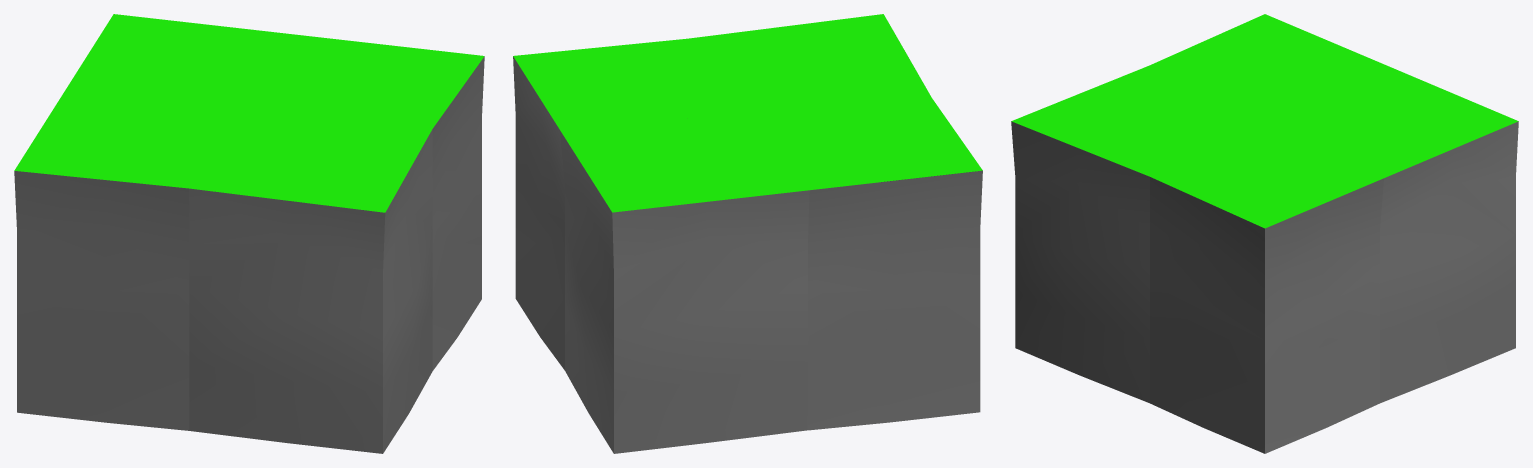
The model's file is Earth_romb.fbx.
3 views of the same model, side by side, from view 1: azimuth 30°, elevation 25°; view 2: azimuth 150°, elevation 25°; view 3: azimuth 270°, elevation 25° (orthographic). The views are drawn at different scales.
Parts seen in each view (by area): view 1: Land_Diogonal_03, Object060, Object057, Land_Diogonal_04, Object052, Object049, Object048, Object059; view 2: Object052, Object059, Object049, Object048, Land_Diogonal_03, Object057, Object060, Land_Diogonal_04; view 3: Object049, Object057, Object048, Land_Diogonal_04, Object052, Land_Diogonal_03, Object059, Object060.
Boxes of the visible parts, x1,y1,x2,y2 form: Land_Diogonal_03: (189, 113, 385, 453); Object060: (14, 113, 248, 430); Object057: (250, 113, 432, 453); Land_Diogonal_04: (250, 56, 484, 370); Object052: (61, 14, 248, 113); Object049: (114, 14, 309, 113); Object048: (250, 36, 483, 113); Object059: (14, 97, 248, 170); Object052: (612, 113, 809, 453); Object059: (748, 113, 982, 430); Object049: (559, 113, 747, 453); Object048: (513, 56, 746, 370); Land_Diogonal_03: (748, 14, 931, 182); Object057: (688, 14, 882, 190); Object060: (749, 98, 982, 176); Land_Diogonal_04: (514, 38, 747, 113); Object049: (1265, 121, 1518, 403); Object057: (1011, 121, 1264, 403); Object048: (1265, 121, 1383, 453); Land_Diogonal_04: (1150, 121, 1264, 453); Object052: (1265, 64, 1518, 121); Land_Diogonal_03: (1011, 65, 1264, 121); Object059: (1265, 14, 1383, 120); Object060: (1149, 14, 1264, 120).
Bounding box in the file's own units: 1600 × 1600 × 789.
